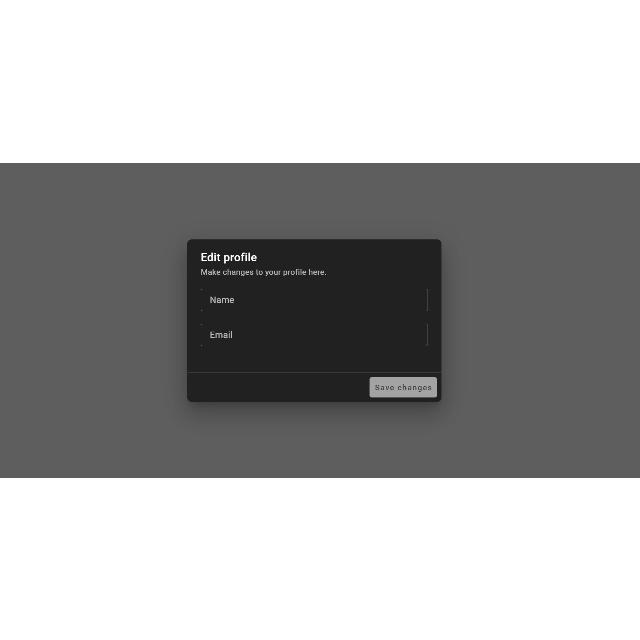QLabel: (200, 266, 326, 276), (200, 250, 258, 264), (374, 384, 432, 391)
VBtn: (368, 376, 438, 398)
VDialog: (186, 238, 442, 402)
VDivider: (188, 371, 440, 373)
VTextField: (199, 321, 429, 347), (200, 286, 428, 312)
